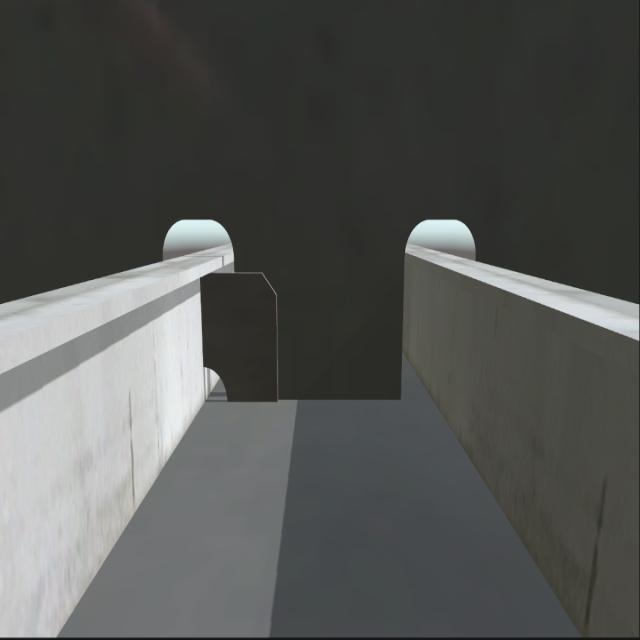fillet_hole: (194, 358, 230, 403)
fillet_yong_jeop_jang: (226, 389, 400, 405)
longi_yong_jeop_jang: (193, 274, 209, 369)
plate_CP03: (199, 268, 285, 402)
